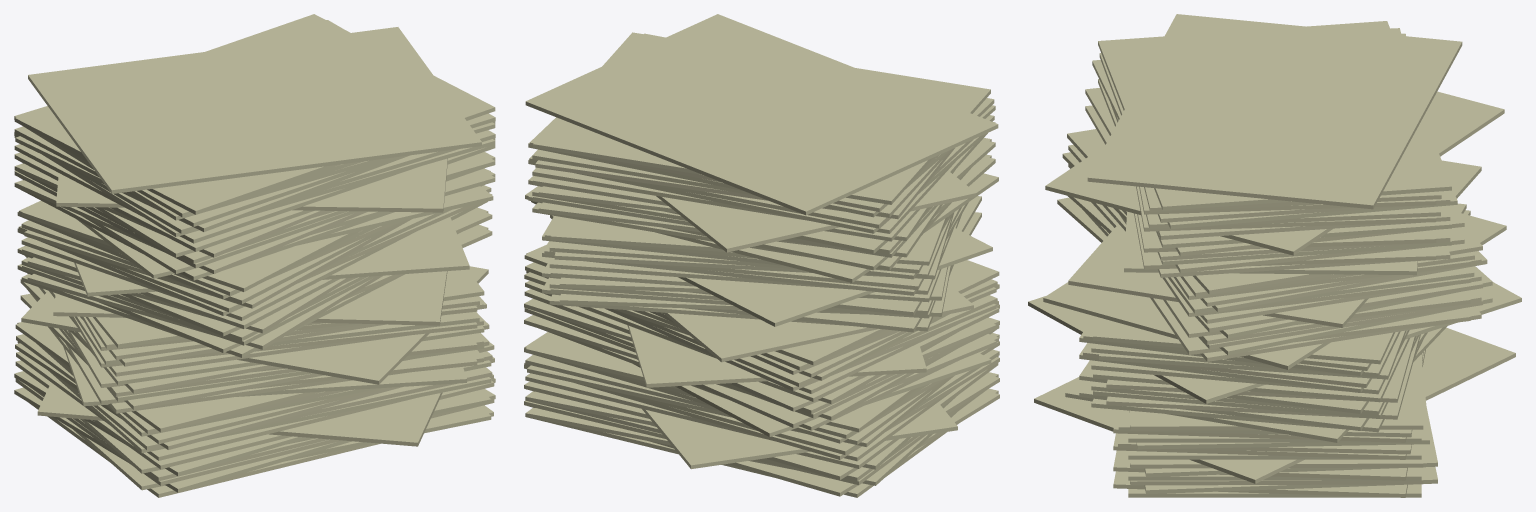
The model's file is paperStack.fbx.
3 views of the same model, side by side, from view 1: azimuth 30°, elevation 25°; view 2: azimuth 150°, elevation 25°; view 3: azimuth 270°, elevation 25° (orthographic). The views are drawn at different scales.
Visible parts, largest first — view 1: group_pasted__pCube15; view 2: group_pasted__pCube15; view 3: group_pasted__pCube15.
Boxes of the visible parts, <box> form: group_pasted__pCube15: <box>14,14,495,497</box>; group_pasted__pCube15: <box>524,14,999,497</box>; group_pasted__pCube15: <box>1028,14,1521,497</box>.
Bounding box in the file's own units: 15.19 × 10.33 × 15.21.
